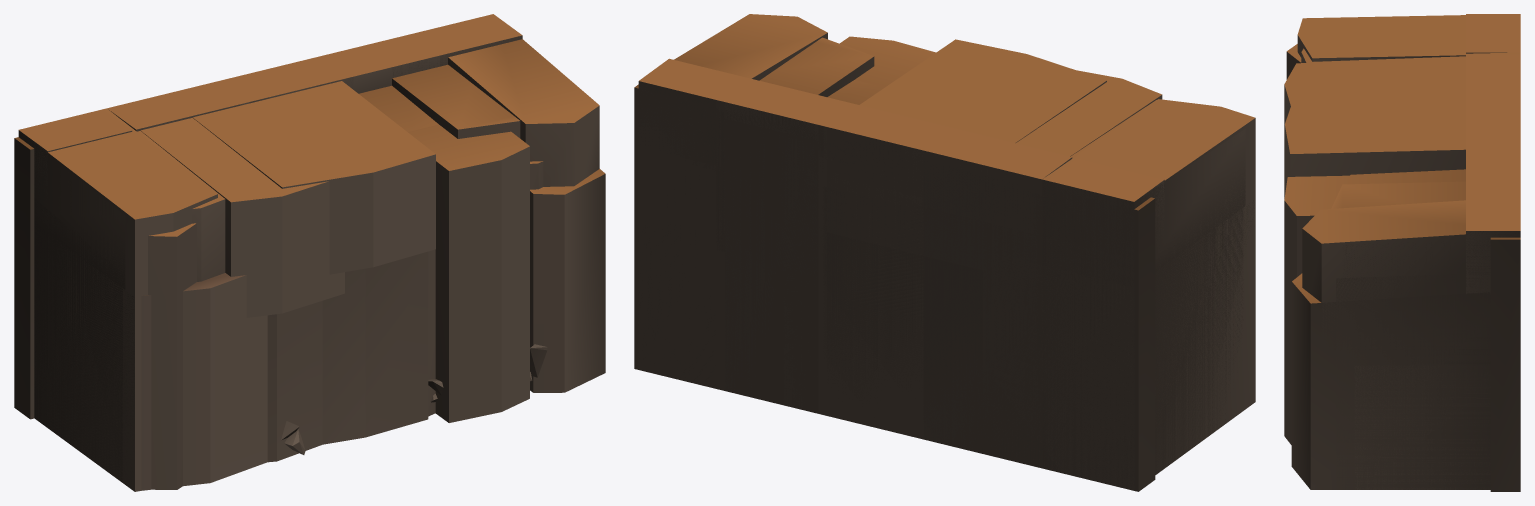
File: cliff-kit.glb
3 renders of one model, left to right at view 1: azimuth 30°, elevation 25°; view 2: azimuth 150°, elevation 25°; view 3: azimuth 270°, elevation 25°, orthographic. The views are drawn at different scales.
Visible parts, largest first — view 1: cliff_wall_0, cliff_wall_1, cliff_wall_2, cliff_wall_3; view 2: cliff_wall_0, cliff_wall_2, cliff_wall_1, cliff_wall_3; view 3: cliff_wall_0, cliff_wall_1, cliff_wall_2, cliff_wall_3.
Part boxes in pixels (x1,y1,x2,y2): cliff_wall_0: (14, 14, 605, 490); cliff_wall_1: (19, 34, 599, 482); cliff_wall_2: (19, 14, 522, 491); cliff_wall_3: (20, 14, 547, 489); cliff_wall_0: (634, 39, 1254, 491); cliff_wall_2: (638, 37, 1255, 490); cliff_wall_1: (638, 14, 1243, 490); cliff_wall_3: (638, 59, 1186, 489); cliff_wall_0: (1284, 48, 1520, 491); cliff_wall_1: (1284, 14, 1520, 489); cliff_wall_2: (1297, 15, 1520, 489); cliff_wall_3: (1286, 14, 1520, 489).
Size of the model in its own units: 2.1 by 1.15 by 0.95.
